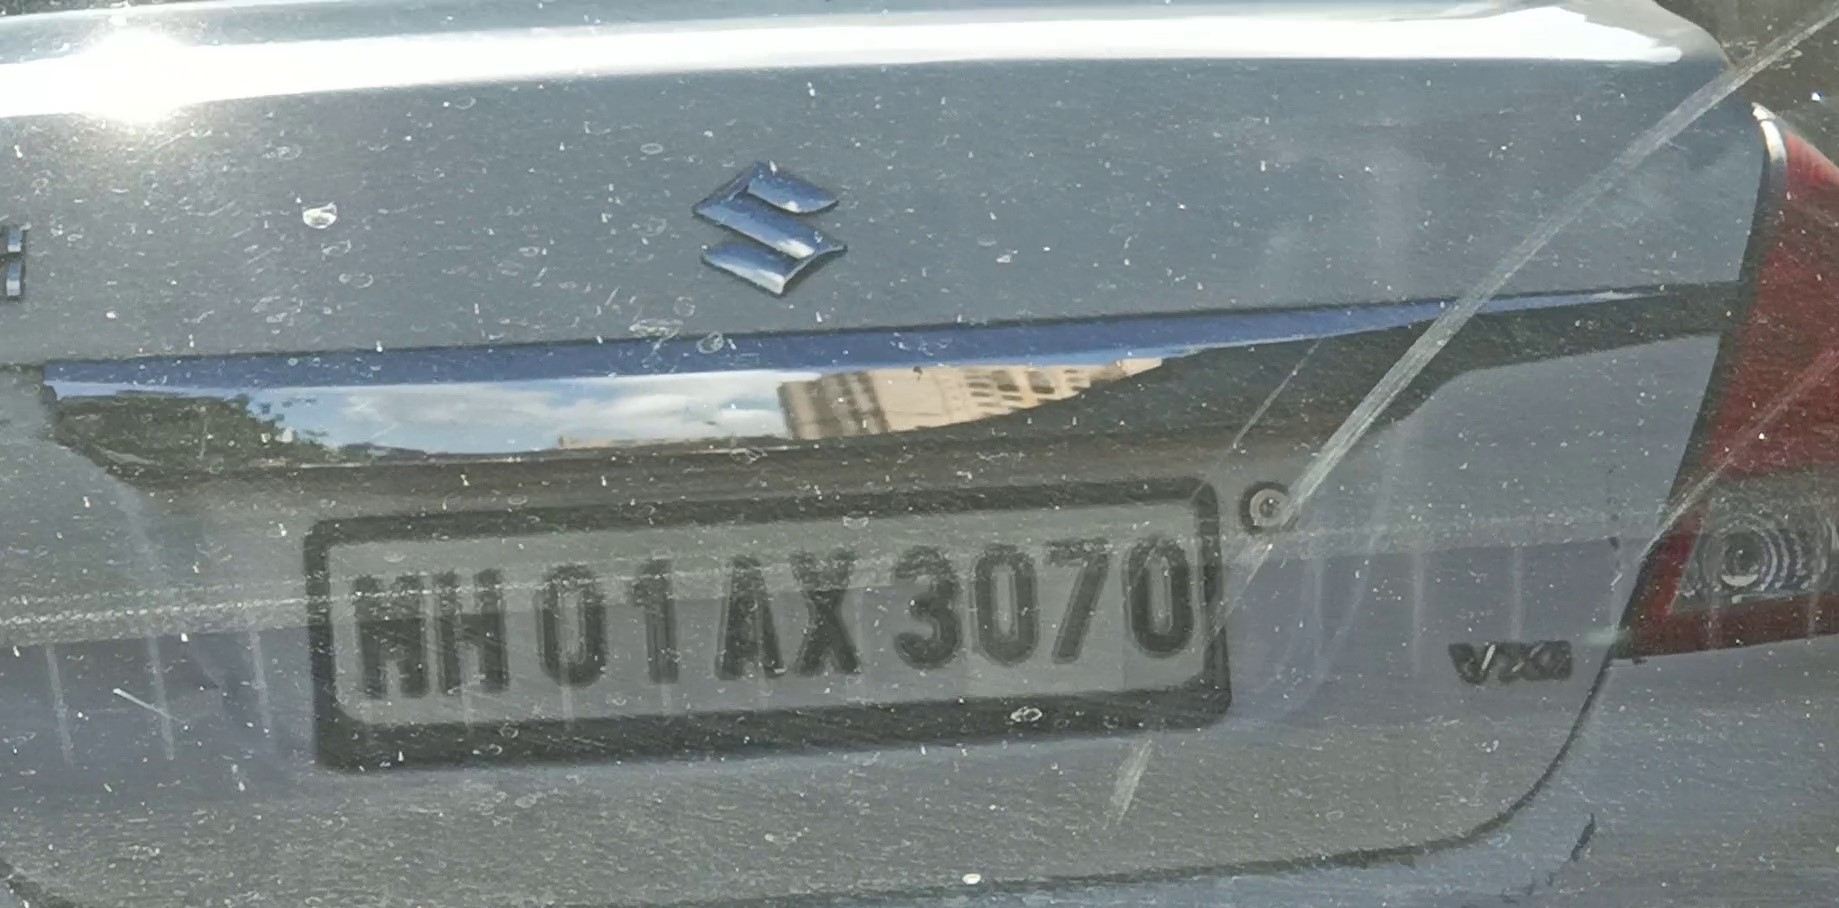MH01AX3070: (327, 495, 1208, 727)
